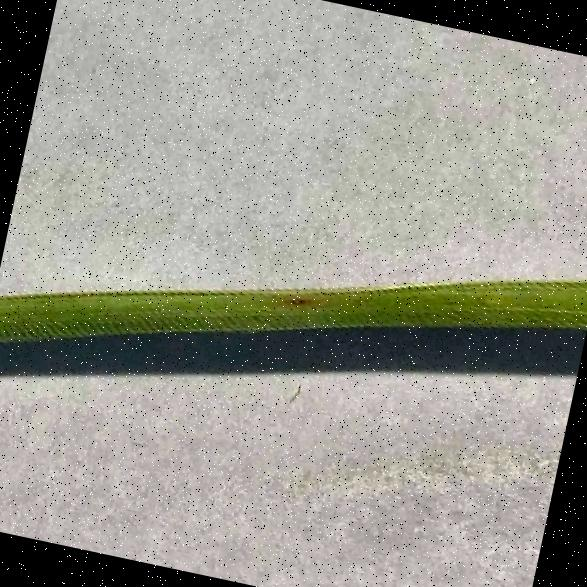Leaf_smut: (231, 259, 329, 335)
